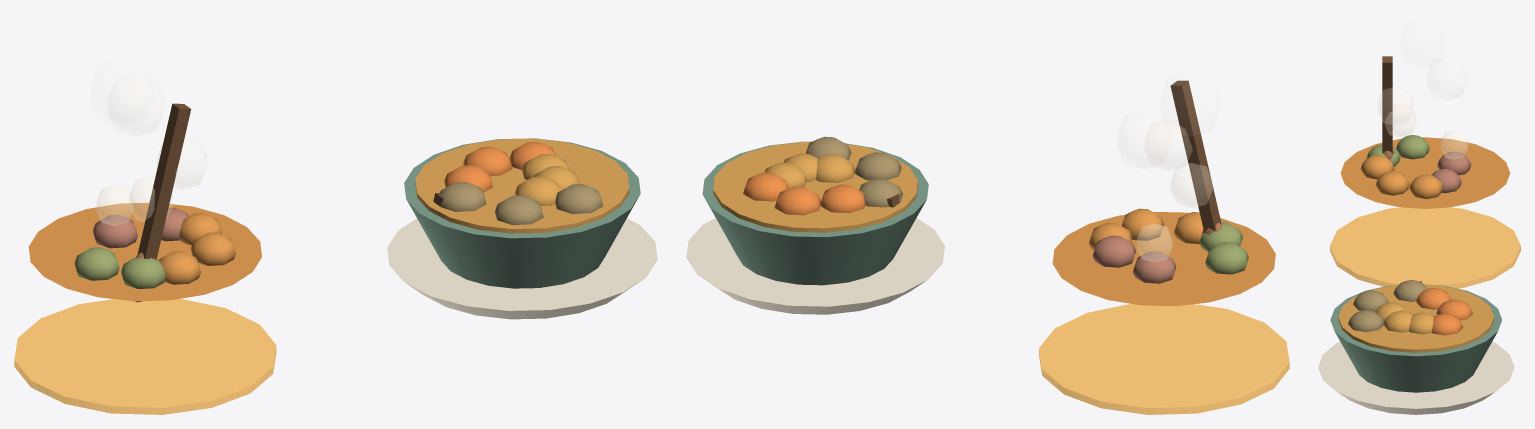
File: gardenSoup-cooking.glb
The picture shows the model from 3 angles, left to right: view 1: azimuth 30°, elevation 25°; view 2: azimuth 150°, elevation 25°; view 3: azimuth 270°, elevation 25°; orthographic projection. The views are drawn at different scales.
Parts seen in each view (by area): view 1: KitchenFinishedDish, Heat, Liquid, Ingredients, Steam, Spoon; view 2: KitchenFinishedDish, Heat, Liquid, Ingredients, Steam, Spoon; view 3: KitchenFinishedDish, Heat, Liquid, Ingredients, Steam, Spoon.
Part boxes in pixels (x1,y1,x2,y2): KitchenFinishedDish: (387, 138, 657, 319); Heat: (14, 298, 276, 414); Liquid: (28, 202, 261, 301); Ingredients: (74, 207, 235, 288); Steam: (96, 75, 206, 225); Spoon: (135, 103, 191, 302); KitchenFinishedDish: (686, 136, 944, 314); Heat: (1039, 303, 1289, 414); Liquid: (1052, 212, 1275, 306); Ingredients: (1089, 208, 1248, 283); Steam: (1118, 111, 1212, 261); Spoon: (1170, 80, 1222, 234); KitchenFinishedDish: (1318, 280, 1514, 414); Heat: (1330, 207, 1520, 288); Liquid: (1340, 137, 1510, 208); Ingredients: (1360, 135, 1471, 198); Steam: (1378, 57, 1467, 159); Spoon: (1382, 56, 1394, 159).
Bounding box in the file's own units: 2.21 × 1.21 × 0.892.
